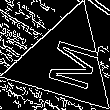M_W: (33, 33, 96, 92)
